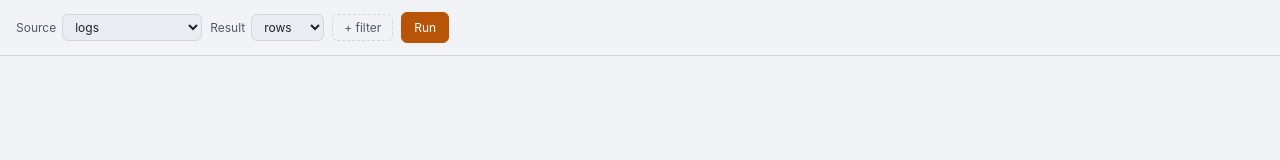
QueryView › formats a *_timestamp column as an absolute date/time, not a raw epoch-nanosecond integer
The width and height of the screenshot is (1280, 160).
Click the button "Run" at (425, 28), box [401,12,449,43]
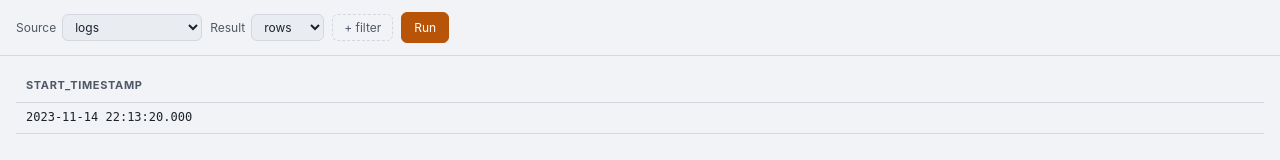
Result: the text "2023-11-14 22:13:20.000" is shown at [26,110,192,124]
